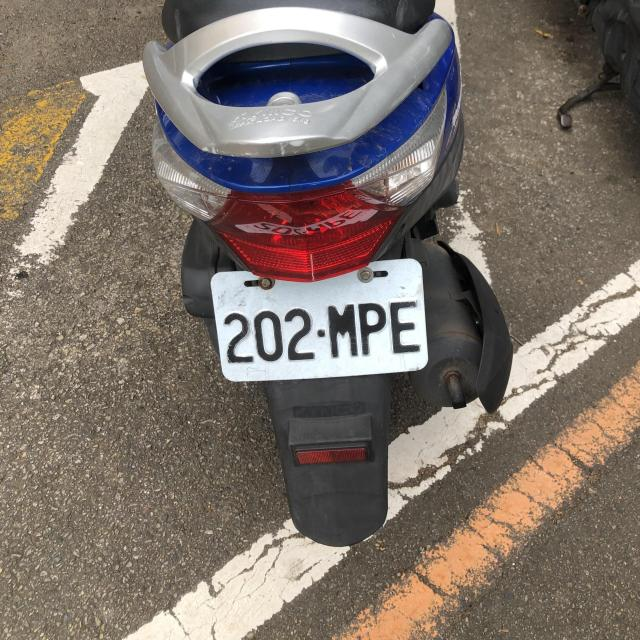W: (208, 255, 428, 385)
